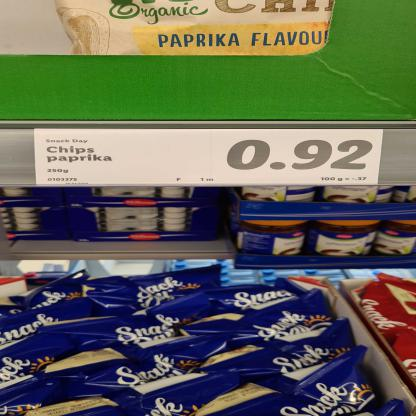prtg: (36, 130, 385, 187)
